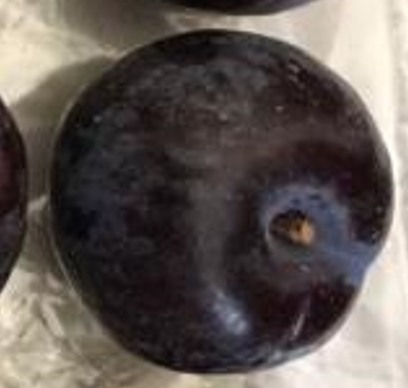plum_A: (48, 31, 396, 374)
